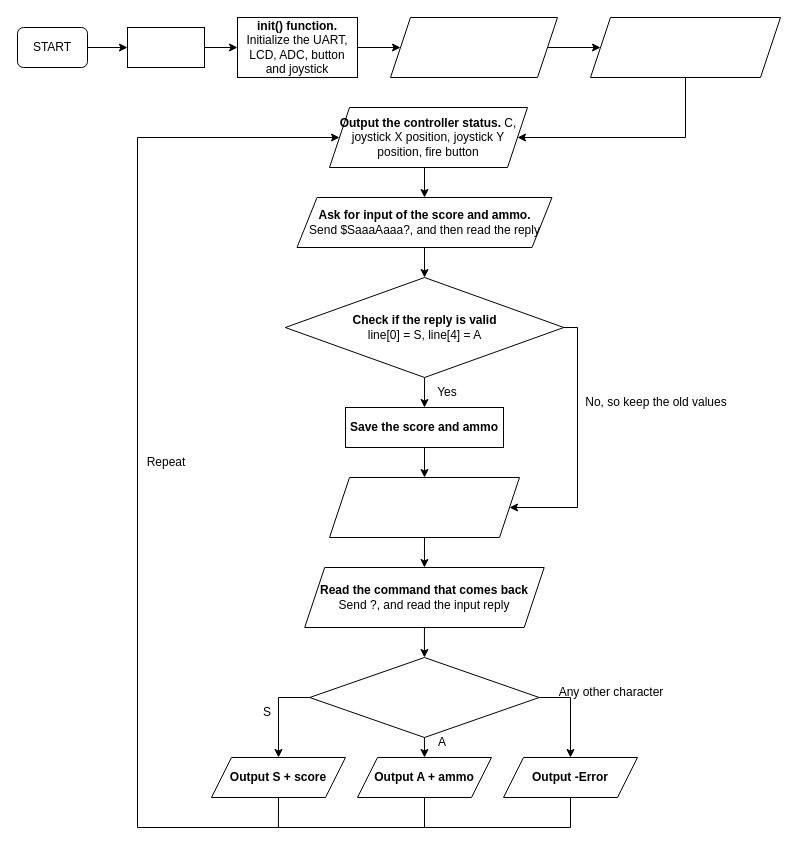
This 798x853 diagram has some shape labels left out. Here are the shapes that lost their labels. From the top down, the box of each, then its label:
(126, 26, 204, 68): main()
(390, 16, 558, 78): Get the game name. Send $Q?, and show the output on LCD row 1
(590, 16, 780, 78): Get the handle. Output $Haaaaaa?, and save the input 6 chars
(328, 476, 520, 538): Output the new LCD row 2 values for ammo, and score.
(309, 656, 539, 738): Check what the inputted first letter is. Check line[0]
